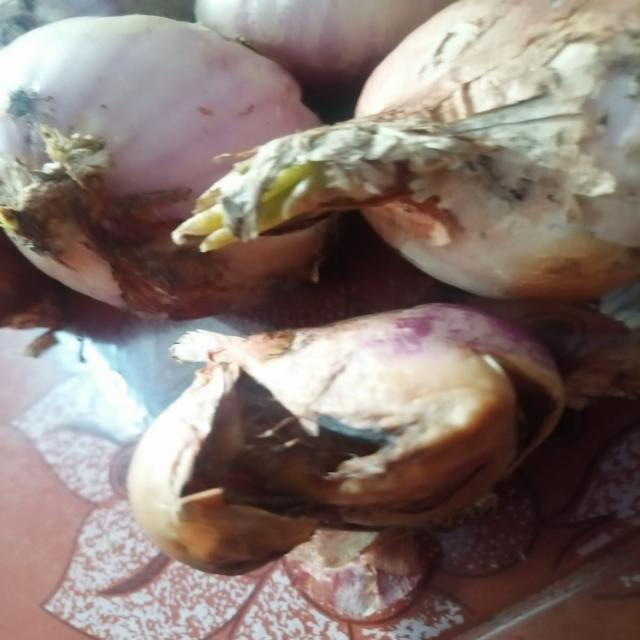rotten: (183, 364, 421, 532), (54, 204, 188, 316)
sprouting: (190, 163, 413, 241)
